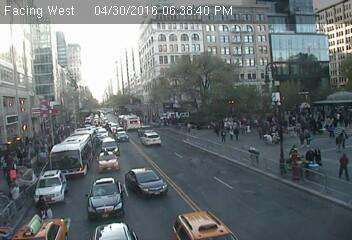neg: (93, 120, 105, 135), (107, 127, 116, 139), (101, 105, 110, 117), (95, 107, 103, 117)
pos: (332, 151, 351, 183), (217, 127, 231, 146), (230, 125, 243, 142)
